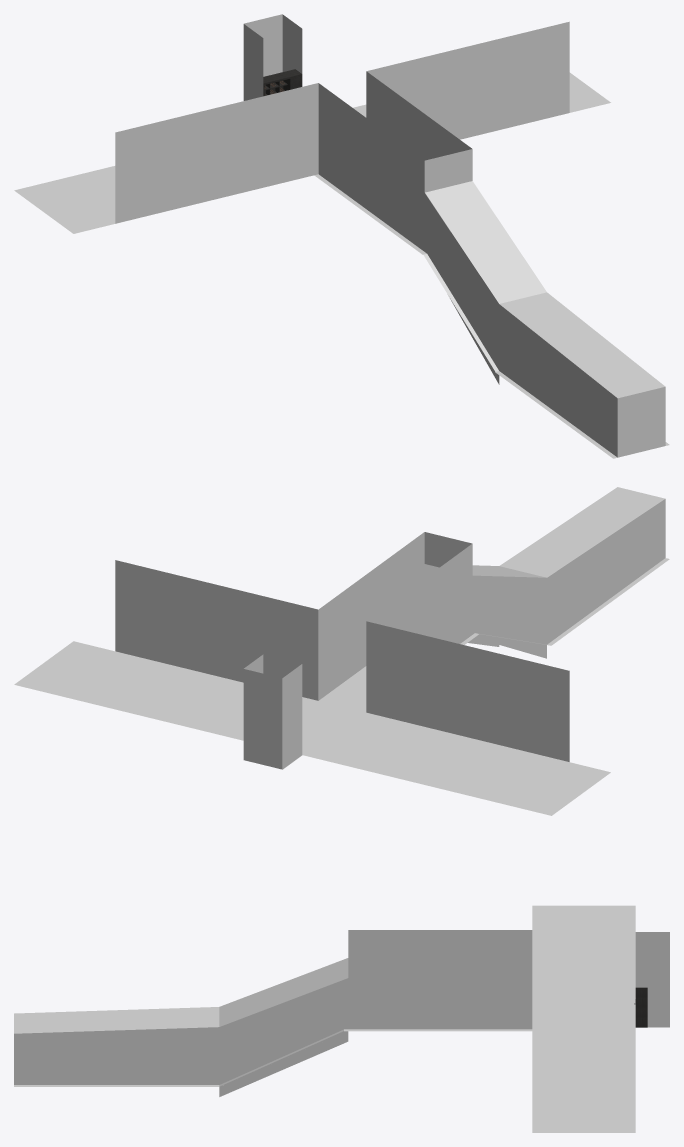
File: LocationJob.fbx
3 views of the same model, one above another, from view 1: azimuth 30°, elevation 25°; view 2: azimuth 150°, elevation 25°; view 3: azimuth 270°, elevation 25° (orthographic). The views are drawn at different scales.
Parts seen in each view (by area): view 1: Industrial, Floor, Cube.002; view 2: Industrial, Floor, Floor.001; view 3: Industrial, Floor, Cube.002.
Boxes of the visible parts, x1,y1,x2,y2 form: Industrial: (115,14,665,457); Floor: (14,72,610,254); Cube.002: (263,69,302,96); Industrial: (115,487,665,769); Floor: (14,633,610,815); Floor.001: (547,558,669,645); Industrial: (14,930,669,1096); Floor: (344,905,669,1132); Cube.002: (635,987,647,1027).
Bounding box in the file's own units: 90.22 × 27.22 × 110.
